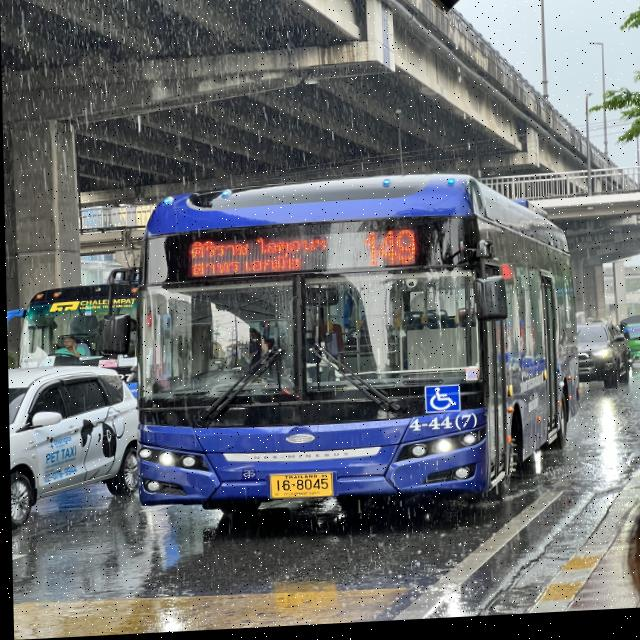Bus Line Number: (354, 229, 426, 273)
Bus Side Number: (401, 414, 478, 439)
Destination Sign: (180, 236, 332, 282)
TSB-Bus: (134, 179, 579, 534)
